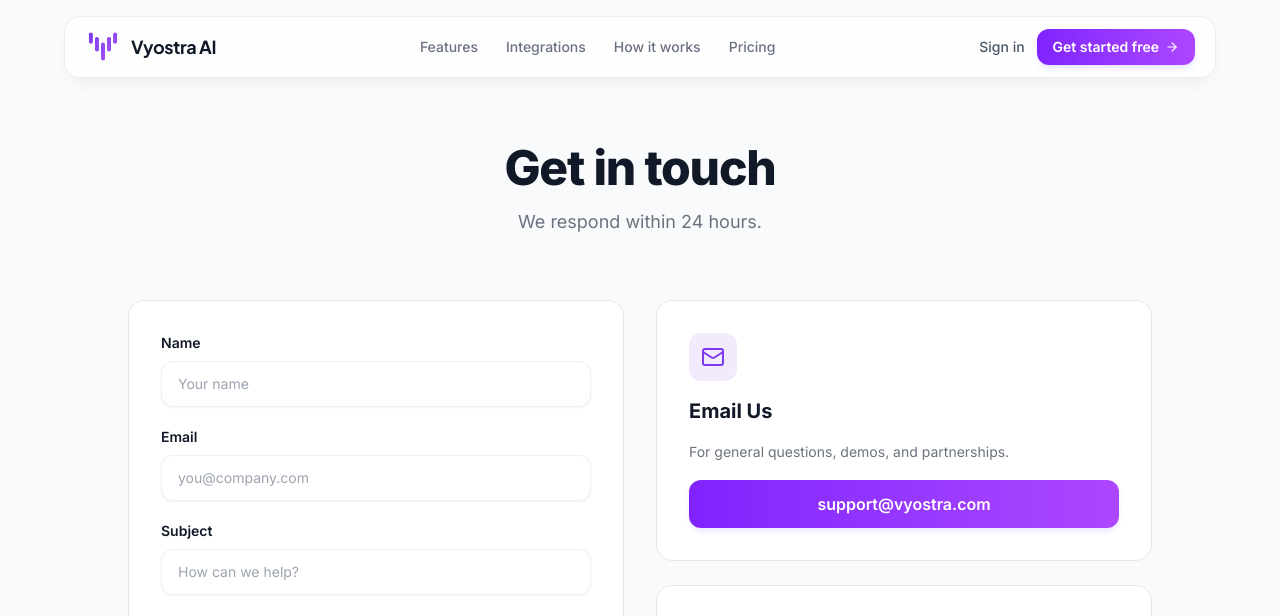
Test: contact form conversion tracking › reports nothing when the backend rejects the message
Type "Asha" into the field labelled "Name" at (376, 384), box [161,361,591,407]
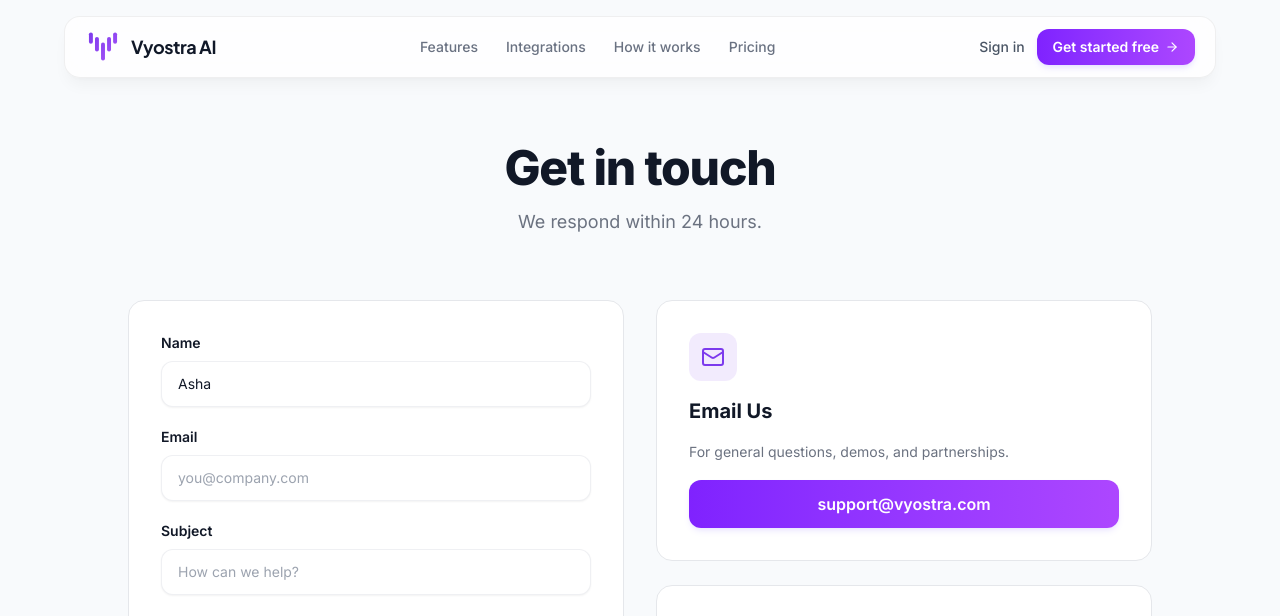
Type "asha@example.com" into the field labelled "Email" at (376, 478), box [161,455,591,501]
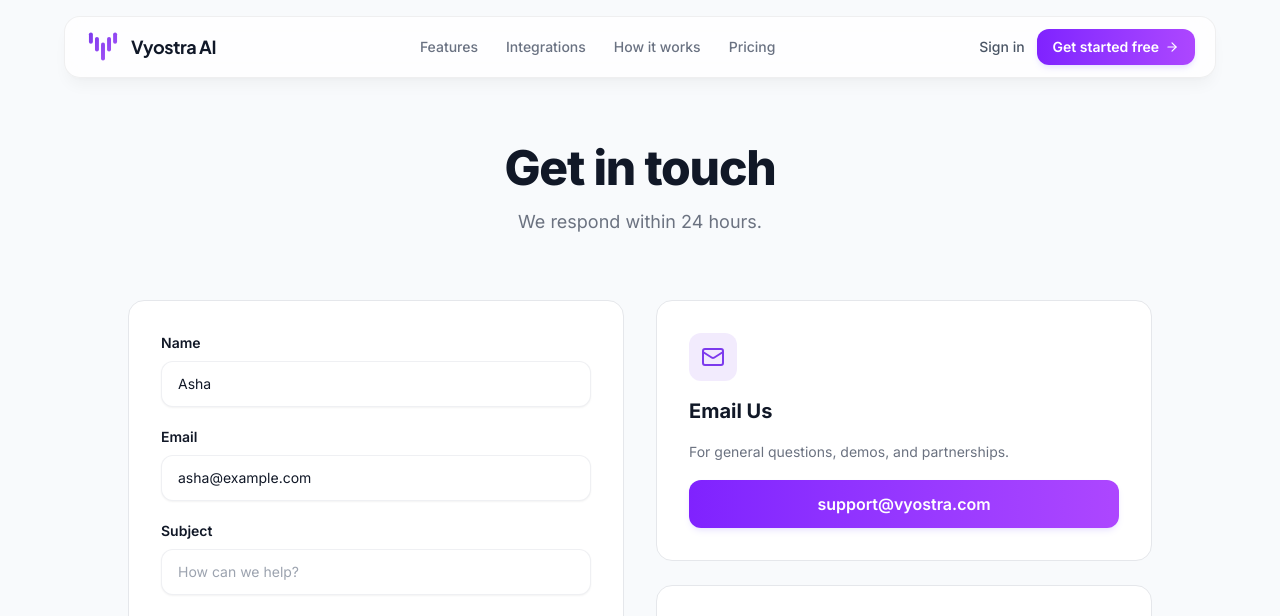
Type "Demo" into the field labelled "Subject" at (376, 572), box [161,549,591,595]
(page scrolled)
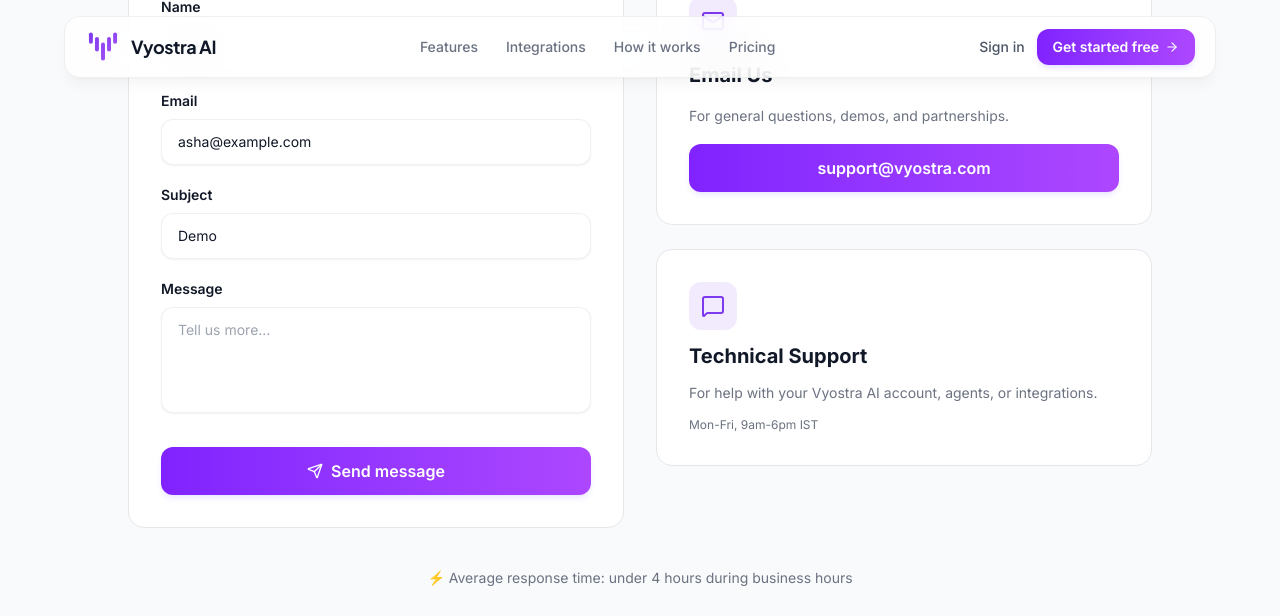
Type "Please call me" into the text box labelled "Message" at (376, 360), box [161,307,591,413]
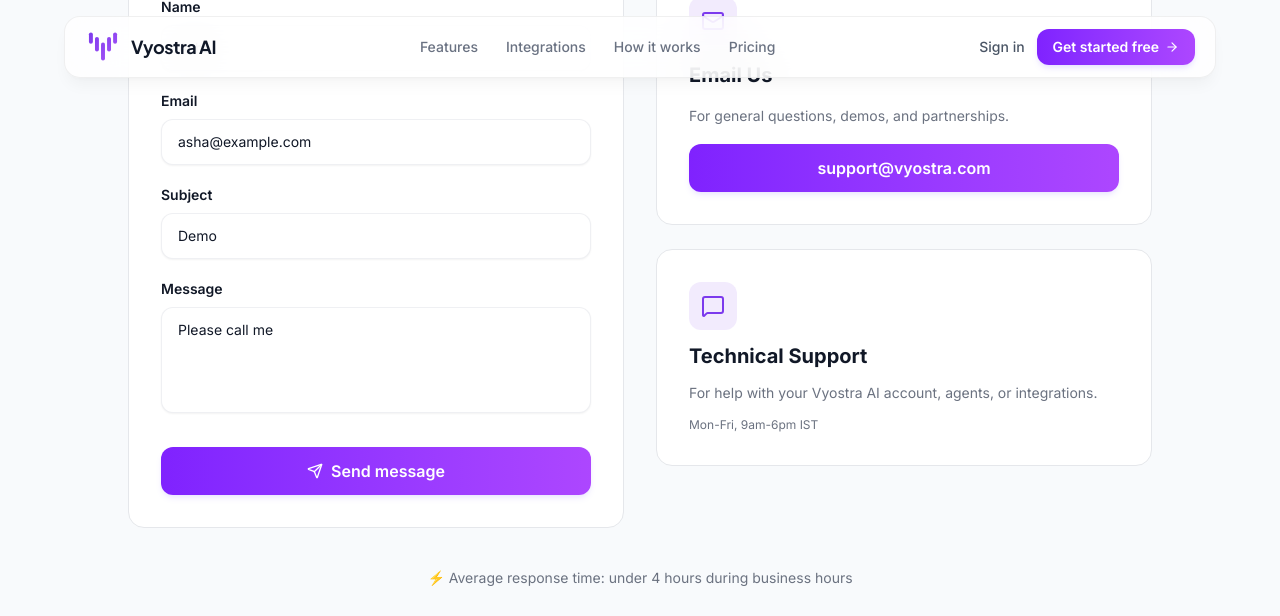
Click the button "Send message" at (376, 471), box [161,447,591,495]
(page scrolled)
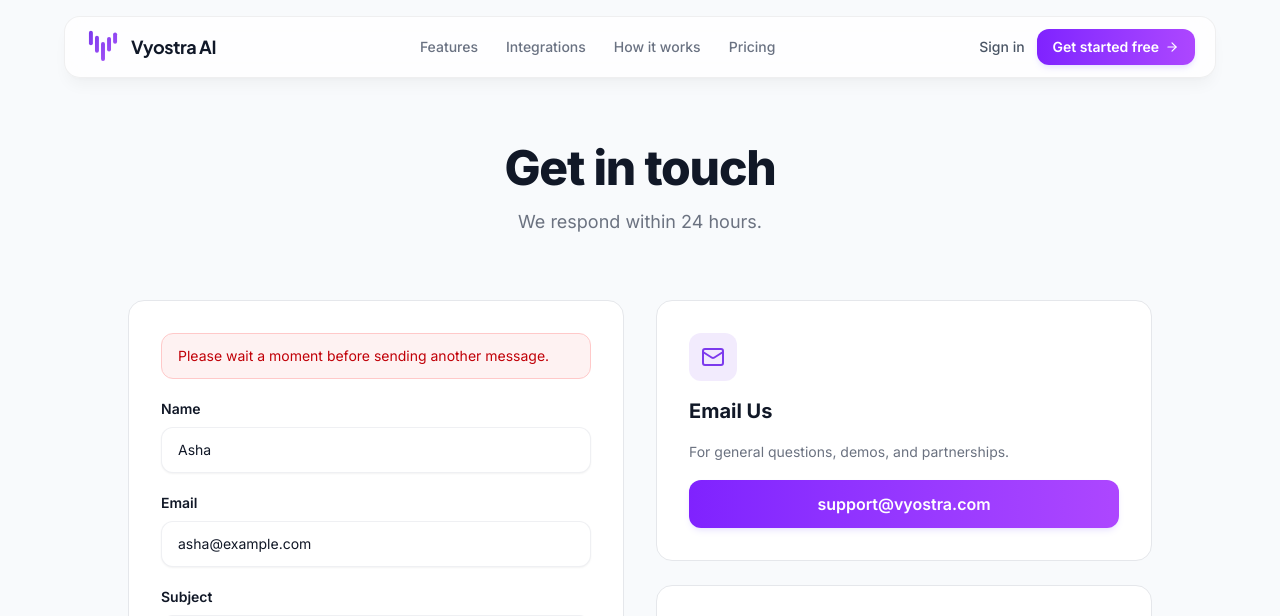
Check: the text "Please wait a moment before sending another message." is shown, box [161,333,591,379]
